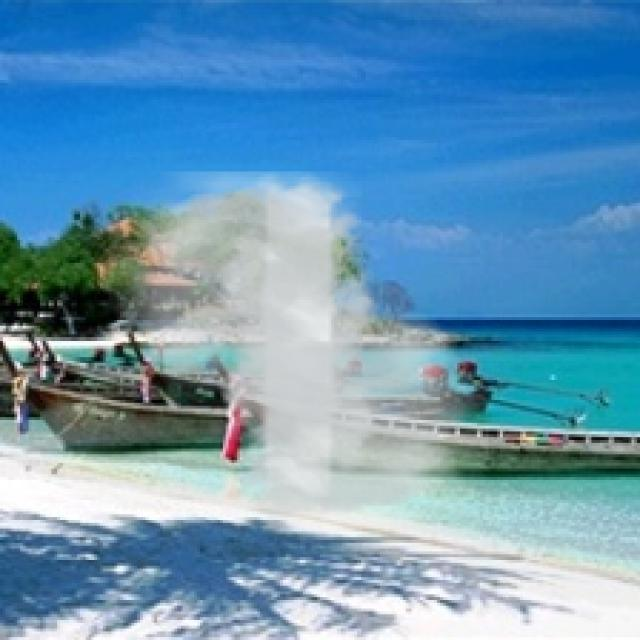Smoke: (109, 172, 488, 528)
